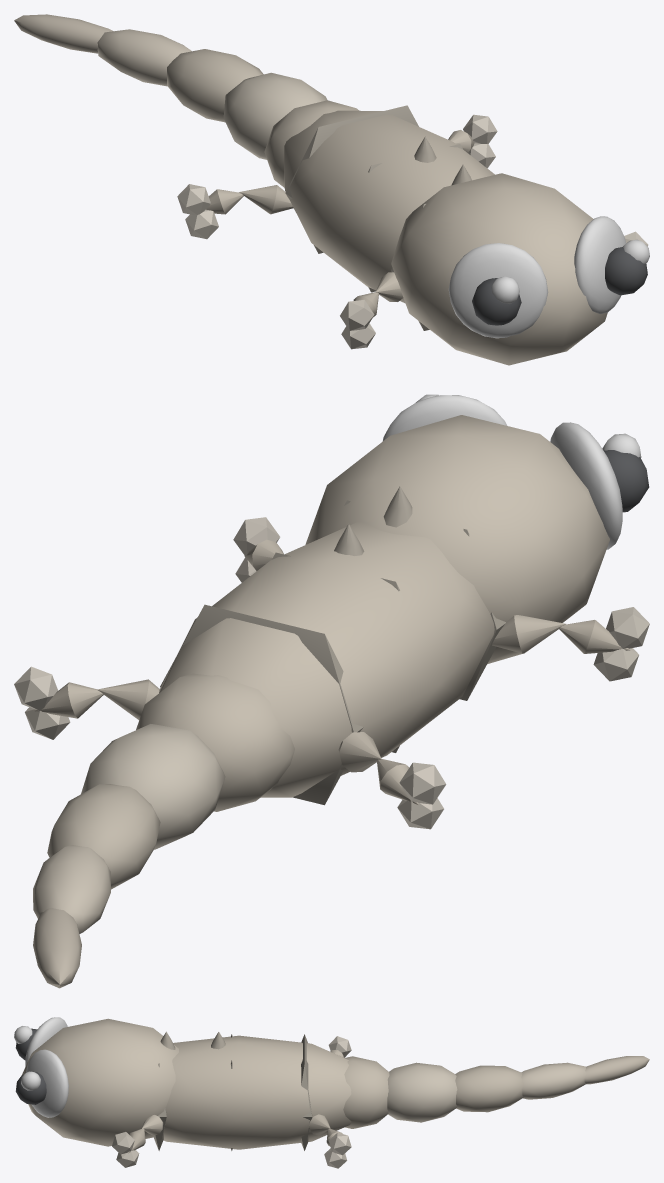
Rendered from hemidactylus-frenatus.glb.
3 views of the same model, one above another, from view 1: azimuth 30°, elevation 25°; view 2: azimuth 150°, elevation 25°; view 3: azimuth 270°, elevation 25° (orthographic). The views are drawn at different scales.
Parts seen in each view (by area): view 1: head, body, face-eye-r, tail1, tail2, tail3, face-eye-l, tail4, tail0, face-pupil-l, face-pupil-r, leg1-r0 (+8 smaller); view 2: body, head, tail0, tail1, tail2, tail3, face-eye-r, tail4, face-eye-l, leg0-r0, face-pupil-r, toe11r (+11 smaller); view 3: body, head, tail1, tail2, tail0, tail3, face-eye-l, tail4, face-eye-r, face-pupil-l, toe00l, toe10l (+8 smaller).
Boxes of the visible parts, x1=… form: head: x1=391, y1=173, x2=607, y2=365; body: x1=284, y1=105, x2=494, y2=330; face-eye-r: x1=448, y1=243, x2=548, y2=338; tail1: x1=223, y1=72, x2=327, y2=159; tail2: x1=167, y1=49, x2=263, y2=122; tail3: x1=97, y1=29, x2=191, y2=86; face-eye-l: x1=574, y1=216, x2=626, y2=314; tail4: x1=14, y1=14, x2=113, y2=53; tail0: x1=264, y1=100, x2=358, y2=187; face-pupil-l: x1=605, y1=247, x2=647, y2=295; face-pupil-r: x1=472, y1=278, x2=521, y2=325; leg1-r0: x1=239, y1=185, x2=293, y2=214; body: x1=159, y1=500, x2=505, y2=805; head: x1=305, y1=415, x2=609, y2=663; tail0: x1=136, y1=673, x2=294, y2=811; tail1: x1=81, y1=724, x2=225, y2=849; tail2: x1=47, y1=784, x2=160, y2=889; tail3: x1=33, y1=845, x2=110, y2=933; face-eye-r: x1=550, y1=422, x2=622, y2=549; tail4: x1=33, y1=908, x2=81, y2=988; face-eye-l: x1=383, y1=395, x2=507, y2=440; leg0-r0: x1=492, y1=615, x2=565, y2=653; face-pupil-r: x1=603, y1=450, x2=649, y2=512; toe11r: x1=399, y1=762, x2=446, y2=804; body: x1=153, y1=1034, x2=351, y2=1150; head: x1=21, y1=1018, x2=178, y2=1146; tail1: x1=387, y1=1062, x2=457, y2=1122; tail2: x1=455, y1=1065, x2=523, y2=1112; tail0: x1=343, y1=1056, x2=389, y2=1128; tail3: x1=521, y1=1062, x2=586, y2=1099; face-eye-l: x1=26, y1=1049, x2=68, y2=1117; tail4: x1=584, y1=1056, x2=649, y2=1084; face-eye-r: x1=25, y1=1017, x2=67, y2=1066; face-pupil-l: x1=15, y1=1071, x2=46, y2=1104; toe00l: x1=112, y1=1132, x2=134, y2=1154; toe10l: x1=328, y1=1132, x2=351, y2=1155.
Bounding box in the file's own units: 0.4943 × 0.2542 × 1.27.
